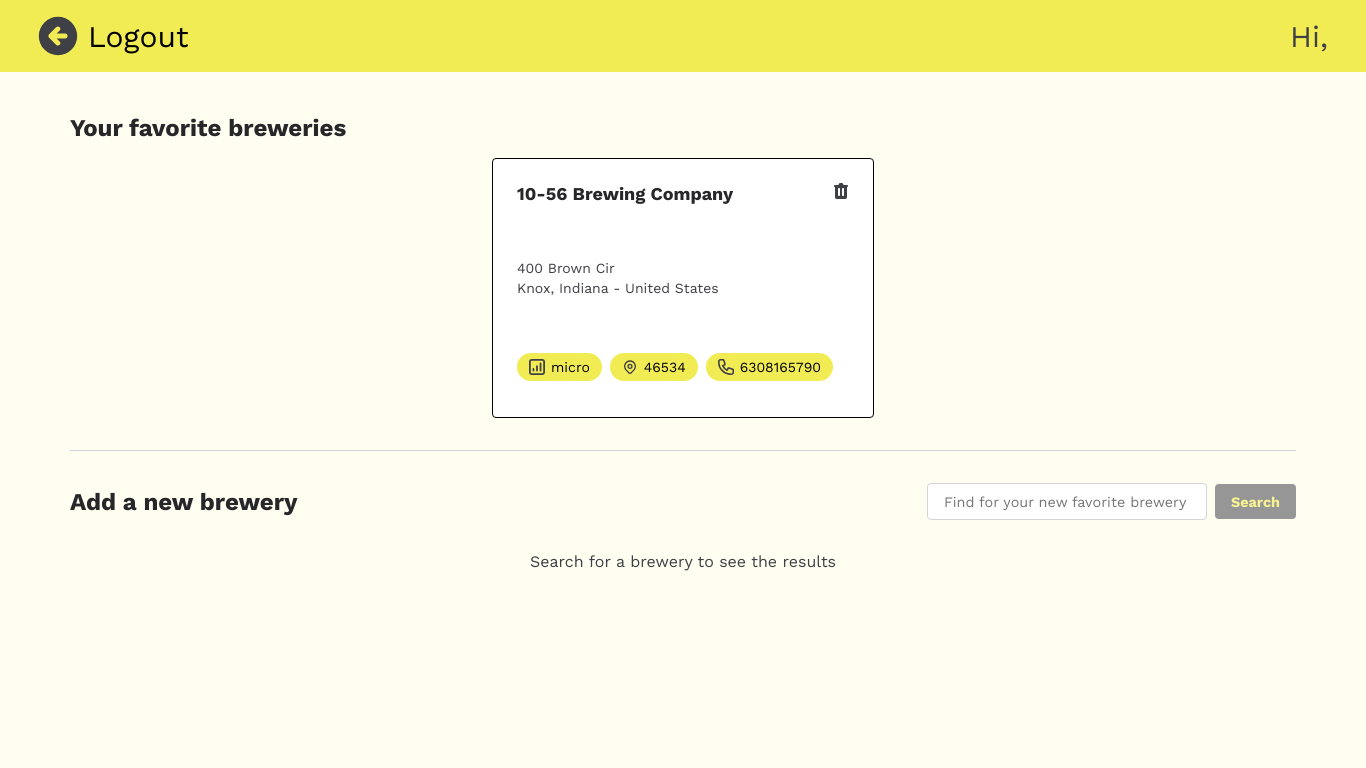
Companies Page › should show error component if API fails
Type "brewery" into the field with placeholder "Find for your new favorite brewery" at (1067, 502), box [927,483,1207,520]
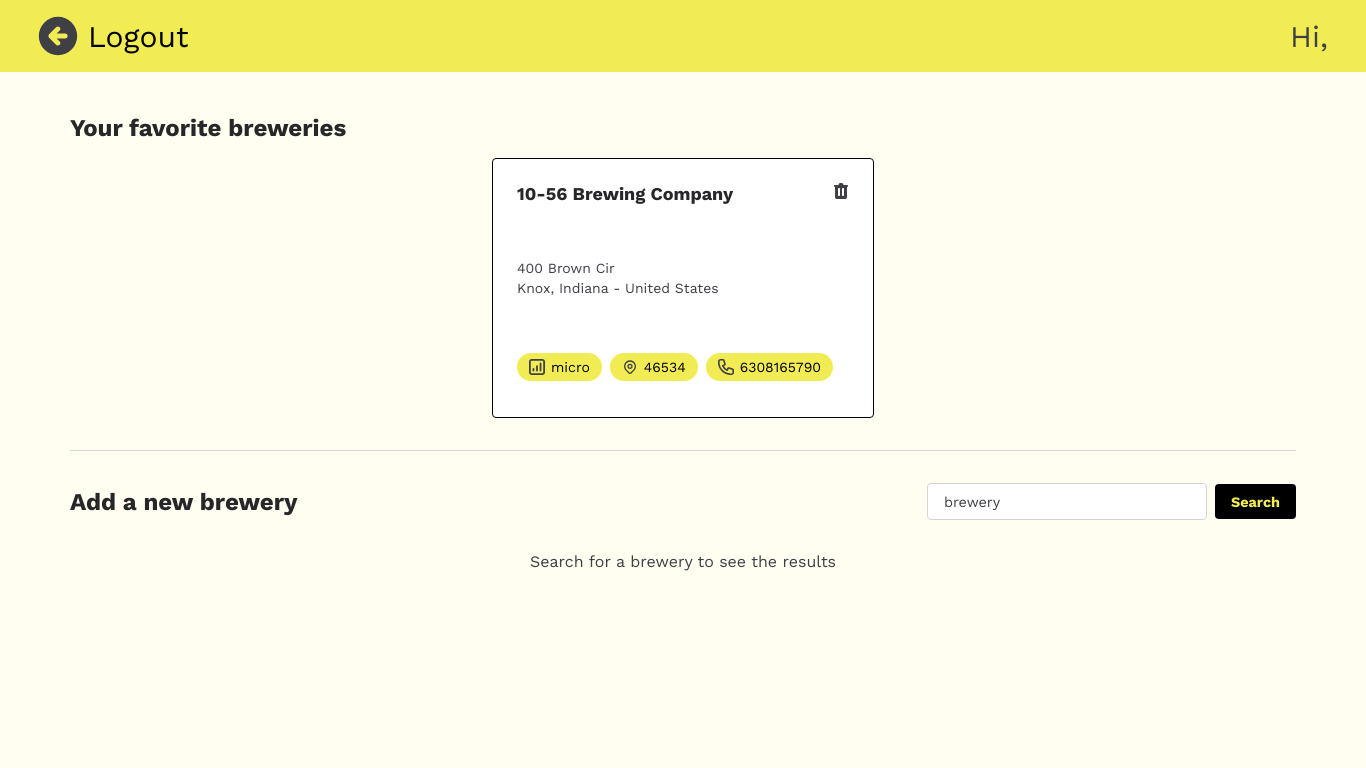
Click the button "Search" at (1255, 502), box [1215,484,1296,519]
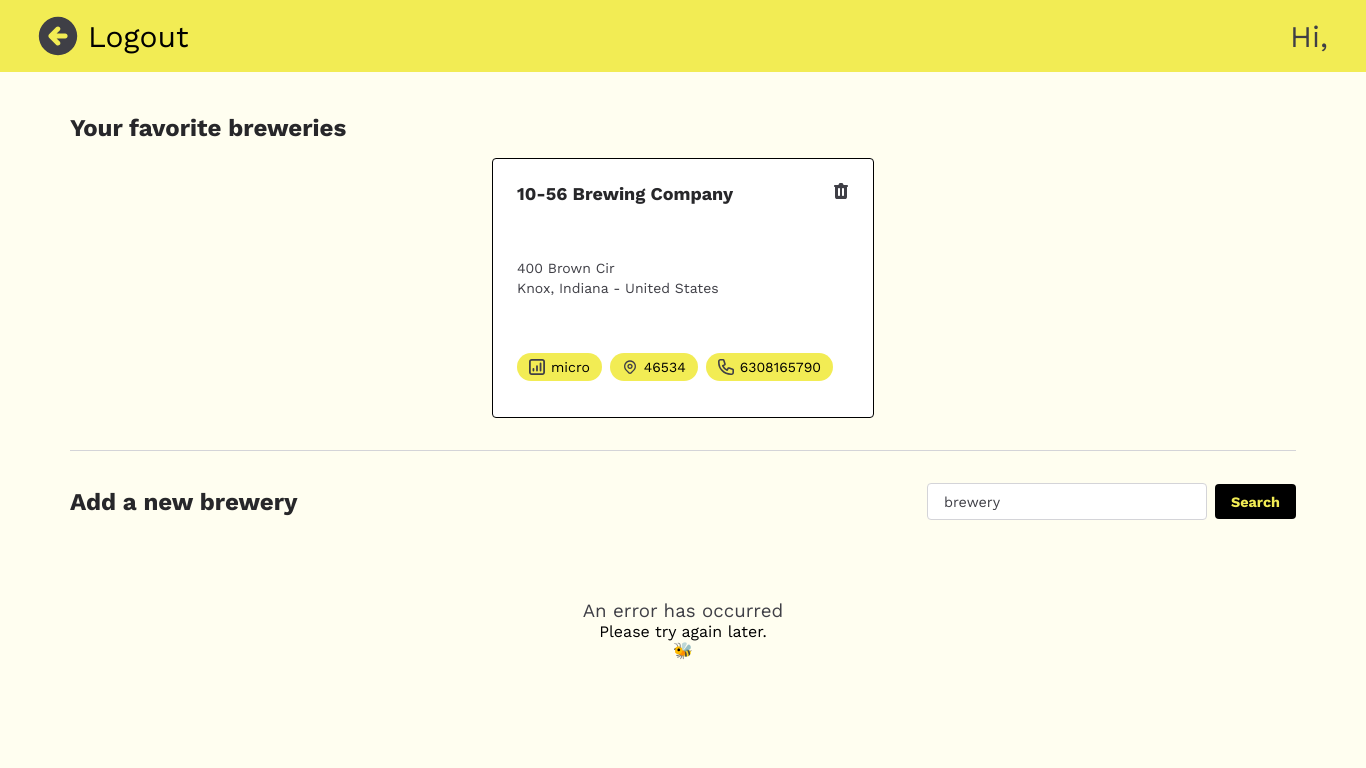
Check: the heading "An error has occurred" is shown, box [583,600,783,622]
